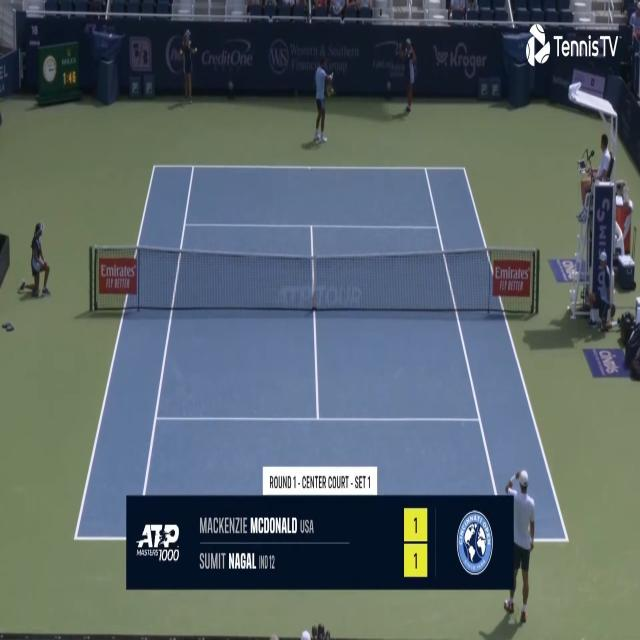tennis-player: (500, 465, 538, 628), (311, 52, 337, 144)
